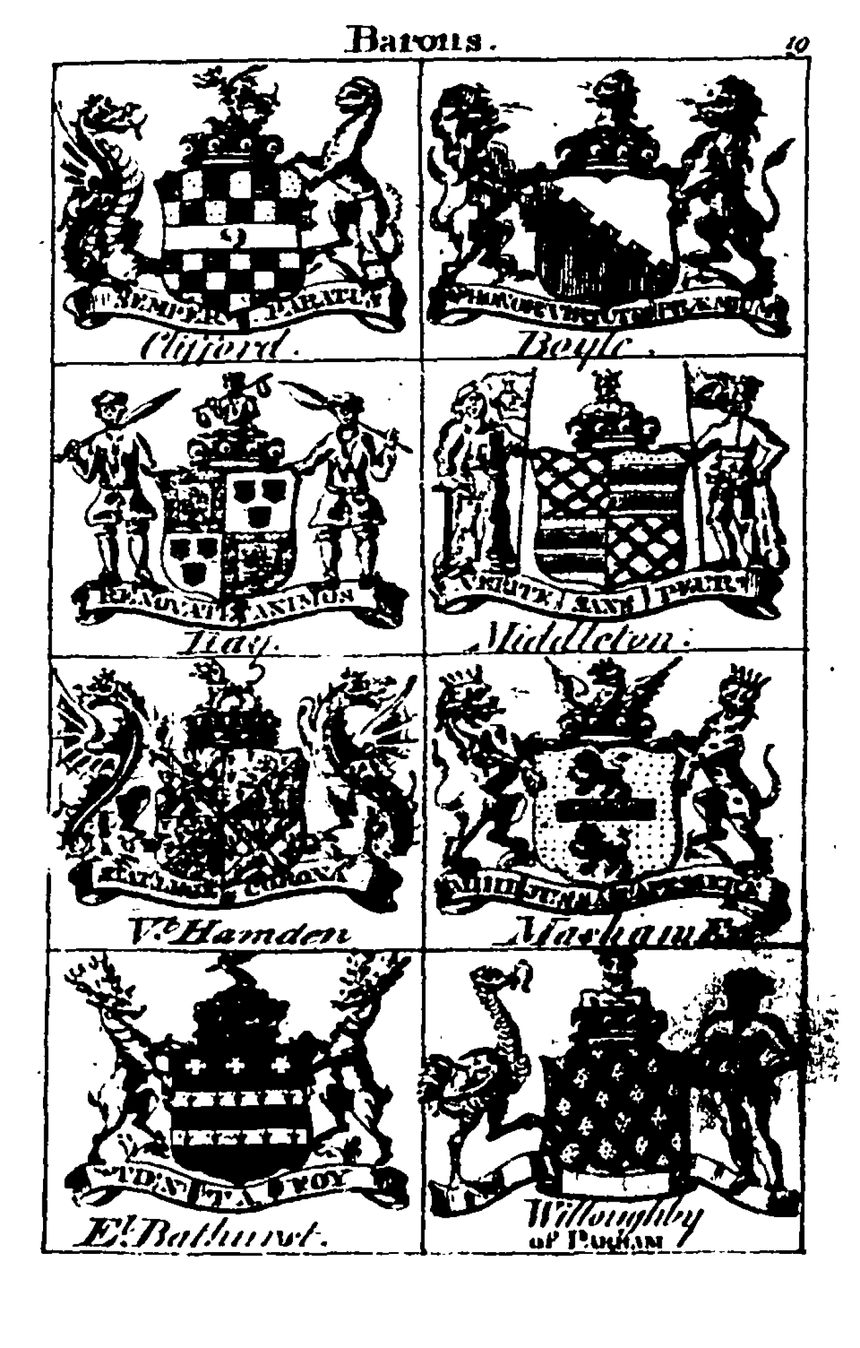coat_of_arms: (425, 958, 801, 1251), (431, 361, 792, 647), (60, 951, 408, 1246), (59, 73, 415, 360), (431, 68, 791, 349), (433, 661, 796, 937), (63, 668, 421, 945), (60, 373, 404, 653)
